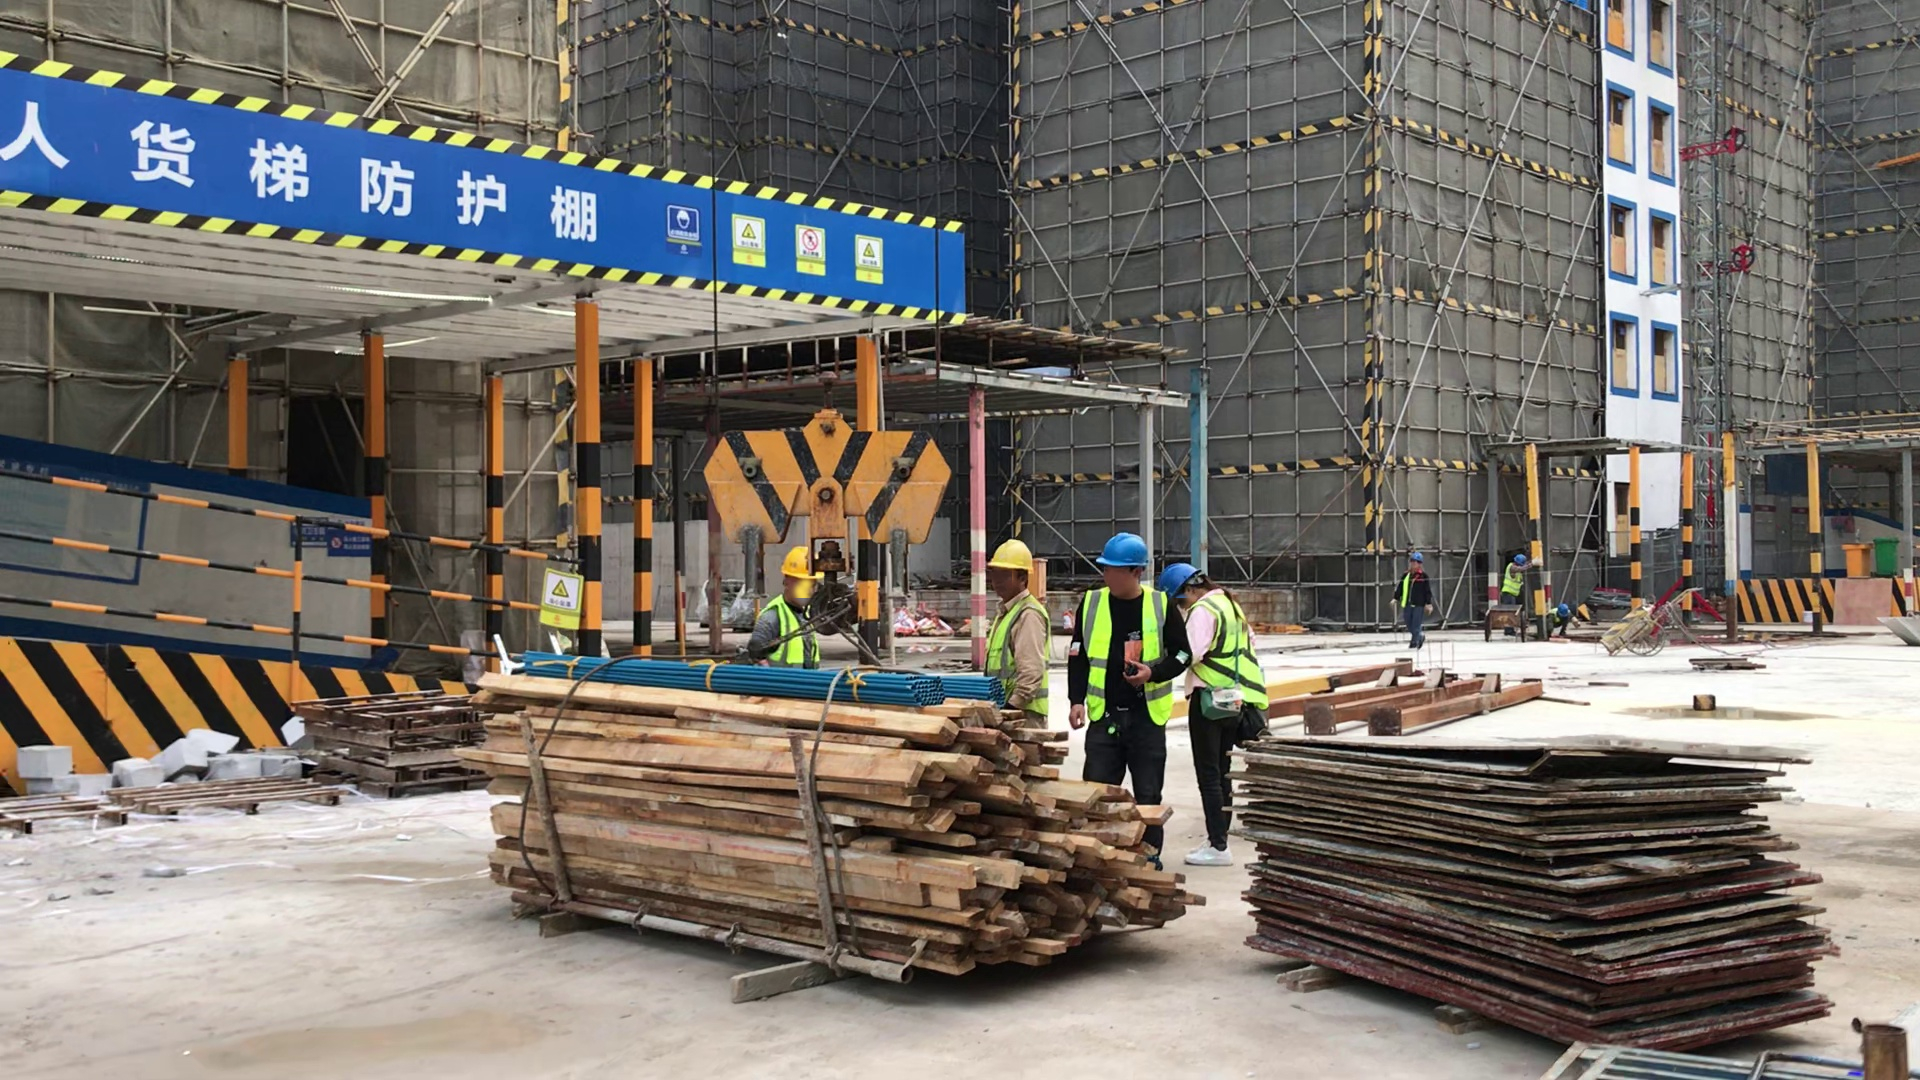helmet: (1099, 530, 1146, 569), (990, 539, 1032, 575), (781, 544, 817, 580), (1164, 564, 1199, 594), (1407, 551, 1424, 564), (1556, 603, 1570, 617), (1514, 554, 1527, 568)
person: (1062, 532, 1180, 815), (1160, 563, 1254, 864), (974, 535, 1055, 721), (759, 545, 821, 671), (1394, 550, 1438, 649), (1499, 553, 1528, 606), (1546, 603, 1582, 636)
vest: (1076, 585, 1168, 715), (1186, 590, 1253, 728), (986, 590, 1053, 717), (767, 596, 819, 668), (1502, 563, 1523, 594)
